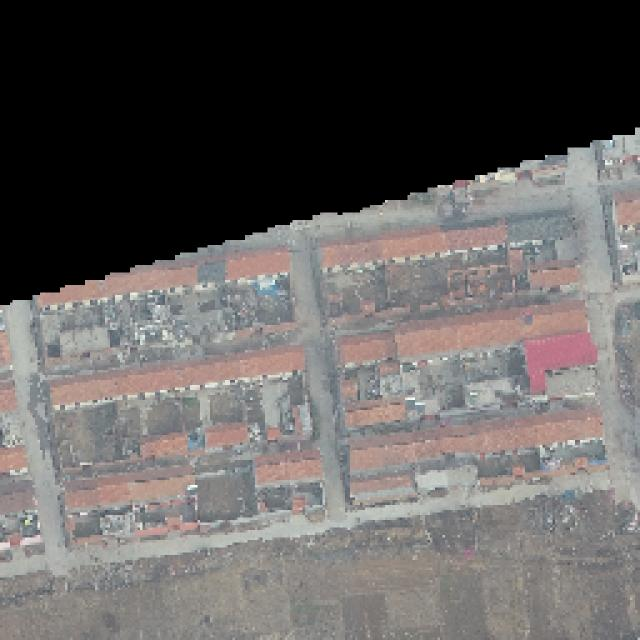Batiment: (350, 408, 601, 473), (50, 345, 304, 408), (395, 300, 586, 357), (322, 226, 508, 267), (38, 268, 198, 306), (67, 466, 195, 509), (256, 452, 321, 484), (337, 333, 394, 364), (226, 251, 289, 279), (352, 477, 416, 504), (345, 401, 405, 427), (140, 432, 188, 459), (207, 426, 248, 448)
